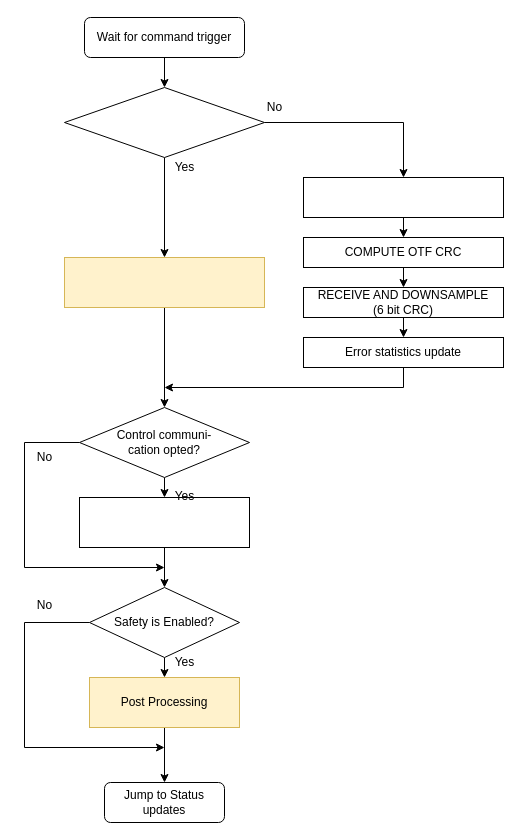
Some shapes in this 521 by 840 pixel diagram are drawn without their labels. Here are the shapes that lost their labels. From the top down, the centre of each, then its label:
At [164,122]: "Safety Enabled for current encoder and channel?".
At [403,197]: "RECEIVE AND DOWNSAMPLE (pos data + ew)".
At [164,282]: "RECEIVE AND DOWNSAMPLE (pos data + ew + Life counter + safety CRC)".
At [164,522]: "Send Control command and receive CDS".
